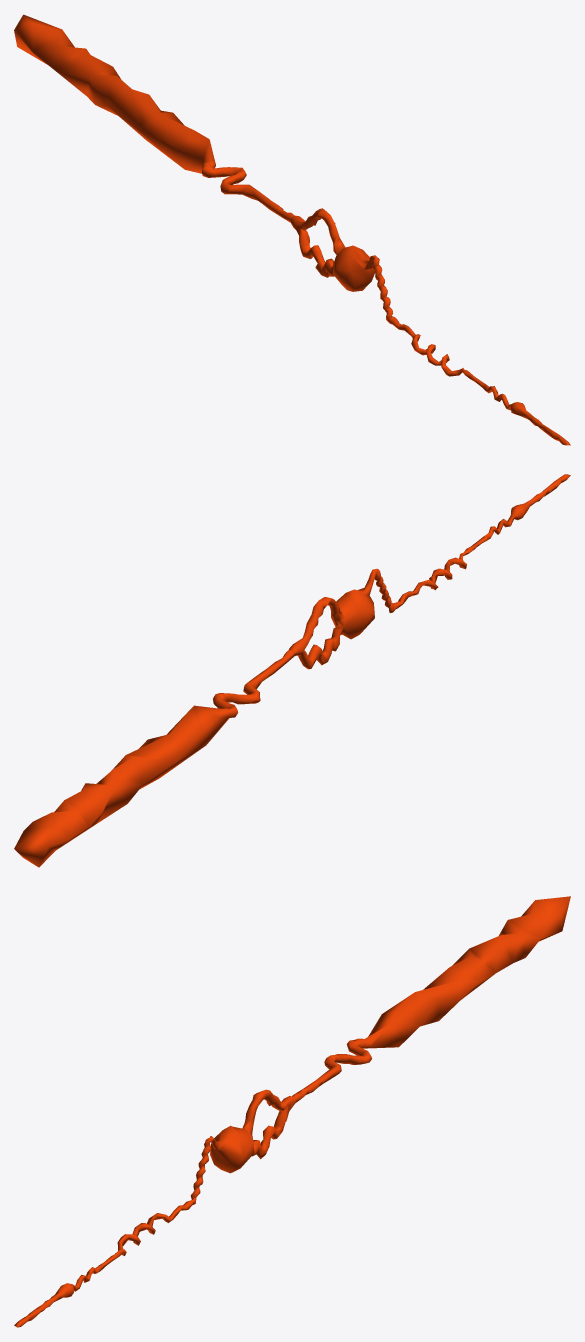
Rendered from atari.fbx.
The picture shows the model from 3 angles, top to bottom: view 1: azimuth 30°, elevation 25°; view 2: azimuth 150°, elevation 25°; view 3: azimuth 330°, elevation 25°; orthographic projection.
Visible parts, largest first — view 1: atari; view 2: atari; view 3: atari.
Part boxes in pixels (box(x1,y1,x2,y2)): atari: box(14, 14, 570, 445); atari: box(14, 474, 570, 867); atari: box(14, 896, 570, 1327).
Bounding box in the file's own units: 358 × 604 × 8987.
